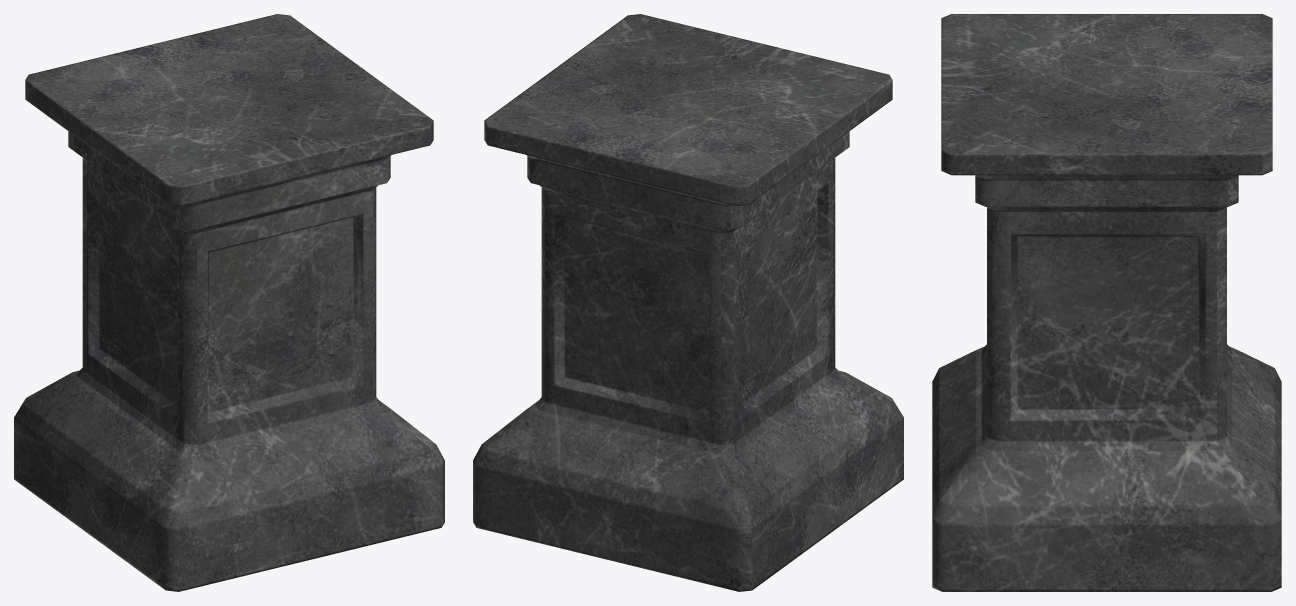
The model's file is Pedestal.glb.
The picture shows the model from 3 angles, left to right: view 1: azimuth 30°, elevation 25°; view 2: azimuth 150°, elevation 25°; view 3: azimuth 270°, elevation 25°; orthographic projection. The views are drawn at different scales.
Visible parts, largest first — view 1: pCube1; view 2: pCube1; view 3: pCube1.
Part boxes in pixels (x1,y1,x2,y2): pCube1: (14,14,444,591); pCube1: (473,14,903,591); pCube1: (932,14,1281,591).
Size of the model in its own units: 4.24 by 5.81 by 4.24.
1 material, 1 textured.
